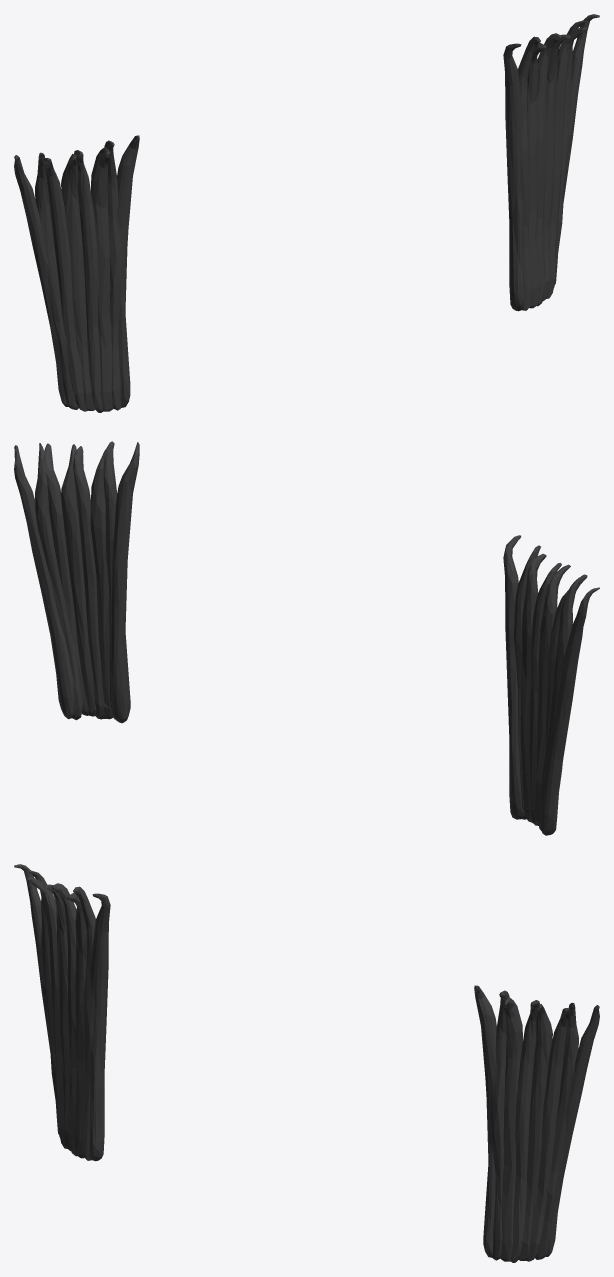
File: mm_interossei_HL.glb
The picture shows the model from 3 angles, top to bottom: view 1: azimuth 30°, elevation 25°; view 2: azimuth 150°, elevation 25°; view 3: azimuth 330°, elevation 25°; orthographic projection.
Parts seen in each view (by area): view 1: mm_interossei_HL; view 2: mm_interossei_HL; view 3: mm_interossei_HL.
Boxes of the visible parts, x1,y1,x2,y2 form: mm_interossei_HL: (14, 14, 599, 412); mm_interossei_HL: (14, 441, 599, 835); mm_interossei_HL: (14, 864, 599, 1262).
Size of the model in its own units: 0.0621 by 0.0281 by 0.00572.
Materials: 1 (1 with a texture image).
